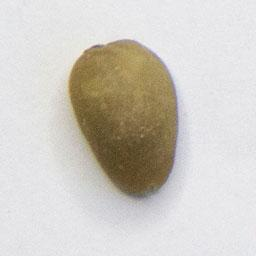premium: (65, 37, 182, 199)
